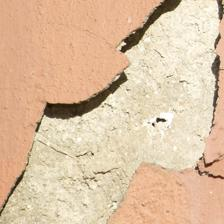Crack: (51, 38, 202, 84), (13, 78, 118, 102)
